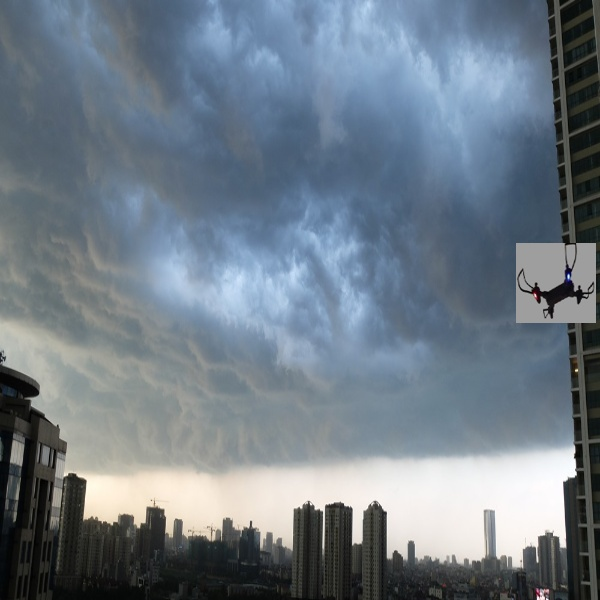drone: (517, 243, 600, 321)
